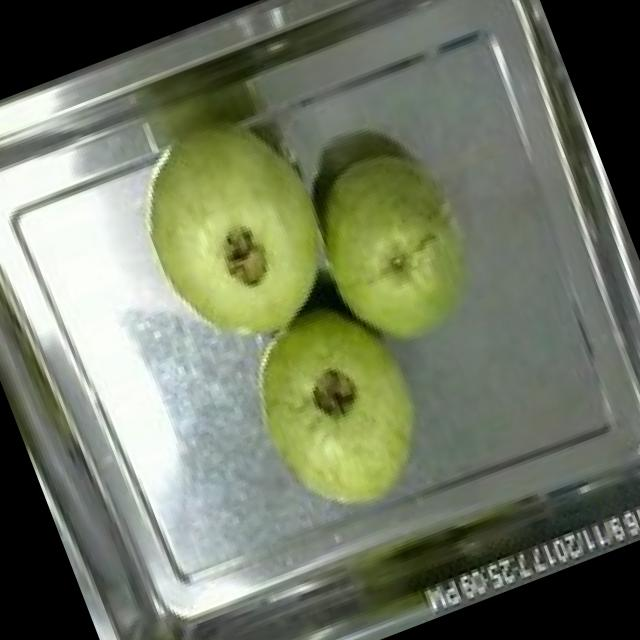Fruit: (108, 93, 371, 380), (219, 273, 462, 546), (278, 123, 514, 376)
